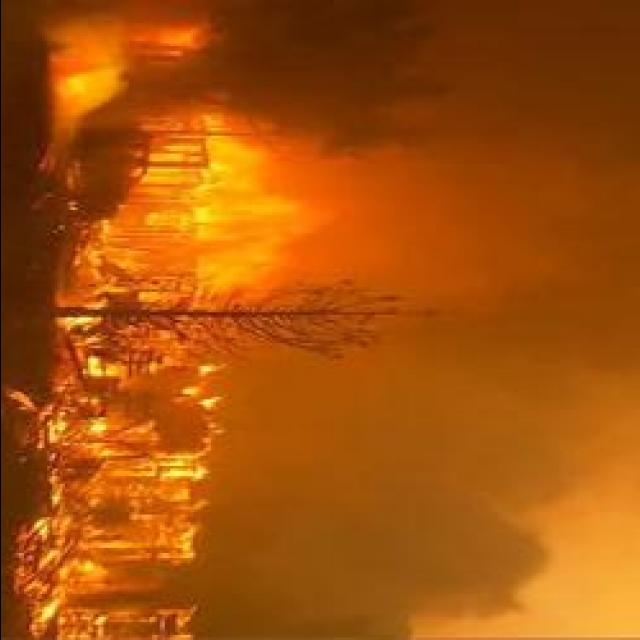fire: (130, 109, 292, 258), (55, 64, 116, 106), (156, 452, 208, 489)
smoke: (376, 521, 550, 615)
